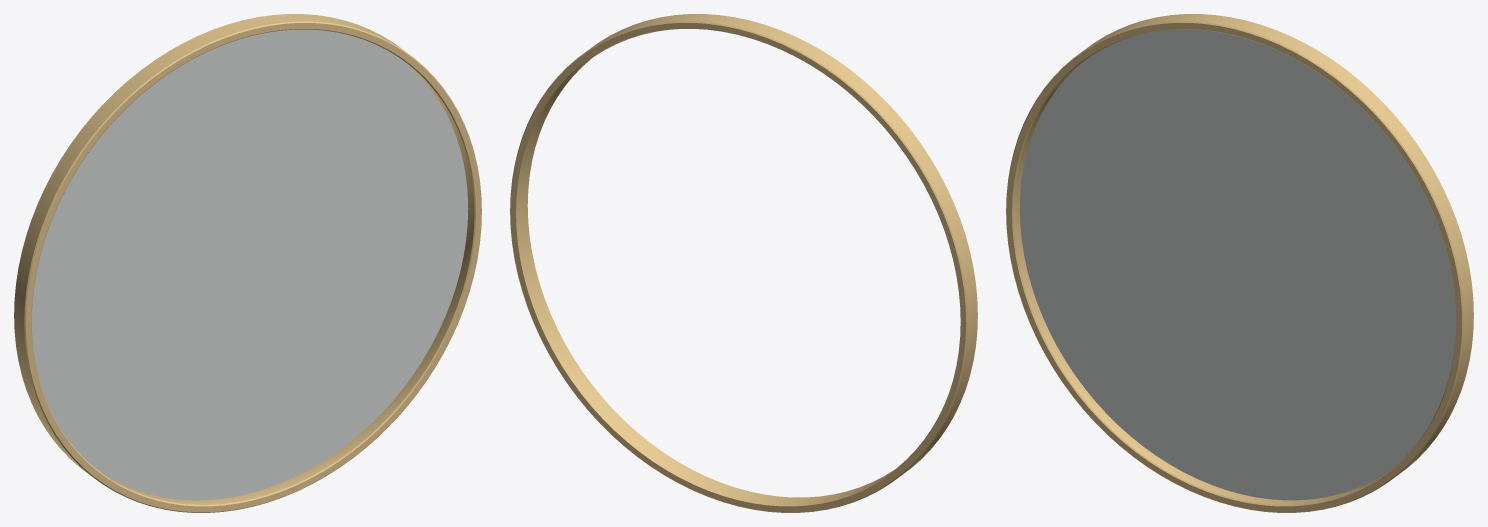
The model's file is miroir-laiton.glb.
3 views of the same model, side by side, from view 1: azimuth 30°, elevation 25°; view 2: azimuth 150°, elevation 25°; view 3: azimuth 330°, elevation 25° (orthographic).
Parts seen in each view (by area): view 1: Miroir_Verre, Miroir_Cadre; view 2: Miroir_Cadre; view 3: Miroir_Verre, Miroir_Cadre.
Part boxes in pixels (<box>): Miroir_Verre: <box>31,29,468,500</box>; Miroir_Cadre: <box>14,14,481,512</box>; Miroir_Cadre: <box>510,14,977,512</box>; Miroir_Verre: <box>1019,29,1456,500</box>; Miroir_Cadre: <box>1006,14,1473,512</box>.
Bounding box in the file's own units: 0.7 × 0.7 × 0.03.
